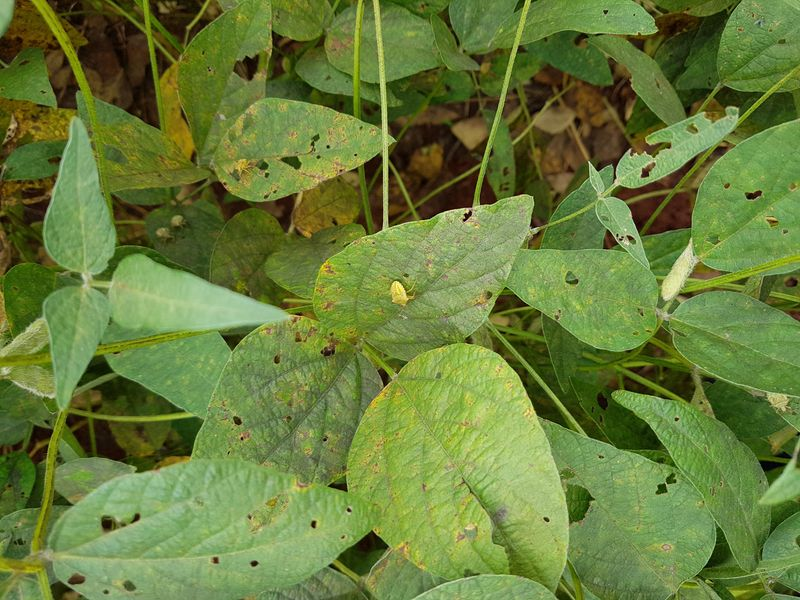Euschistus_heros_ninfa: (758, 385, 794, 423), (381, 275, 418, 310), (153, 226, 176, 248), (170, 213, 189, 229)
